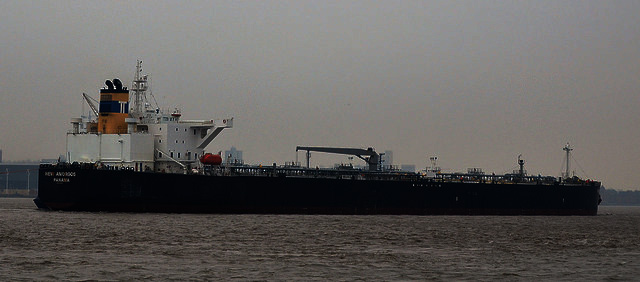tanker: (33, 63, 606, 216)
